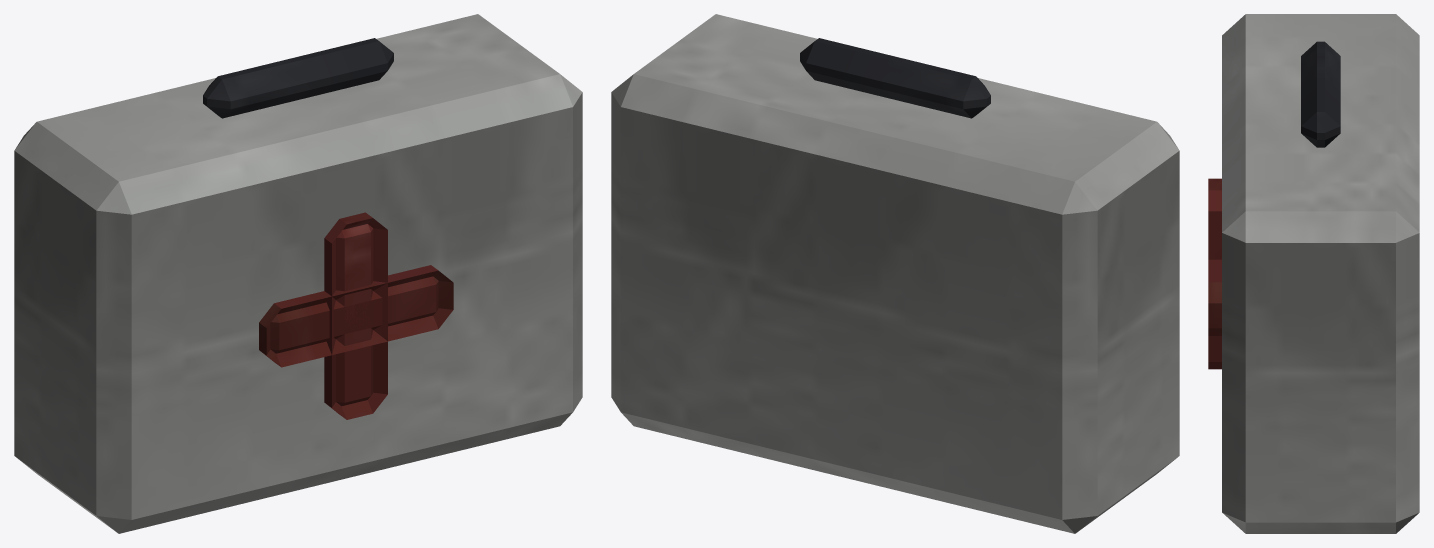
File: item_medkit.glb
The picture shows the model from 3 angles, left to right: view 1: azimuth 30°, elevation 25°; view 2: azimuth 150°, elevation 25°; view 3: azimuth 270°, elevation 25°; orthographic projection. The views are drawn at different scales.
Parts seen in each view (by area): view 1: body; view 2: body; view 3: body.
Part boxes in pixels (bbox=[...]): body: bbox=[14, 14, 582, 533]; body: bbox=[611, 14, 1179, 533]; body: bbox=[1208, 14, 1419, 533].
Bounding box in the file's own units: 0.26 × 0.2 × 0.107.
Materials: 3 (3 with a texture image).
